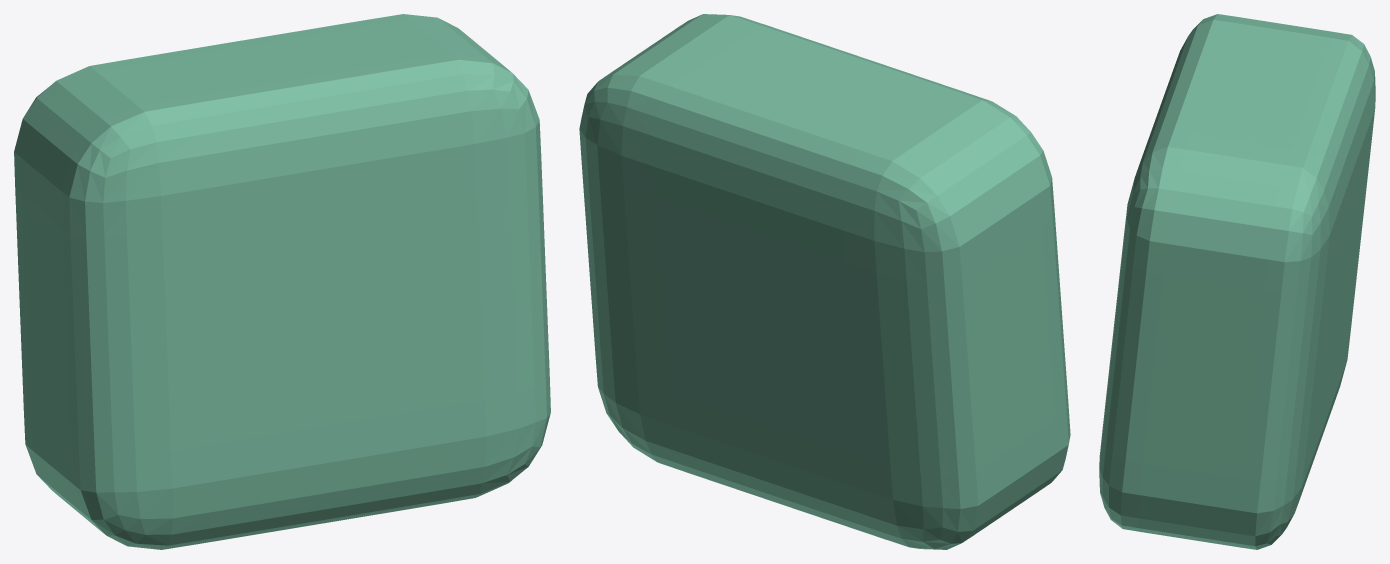
File: green-cushion.glb
The picture shows the model from 3 angles, left to right: view 1: azimuth 30°, elevation 25°; view 2: azimuth 150°, elevation 25°; view 3: azimuth 270°, elevation 25°; orthographic projection. The views are drawn at different scales.
Parts seen in each view (by area): view 1: cushion; view 2: cushion; view 3: cushion.
Part boxes in pixels (x1=…): cushion: x1=14, y1=14, x2=550, y2=549; cushion: x1=579, y1=14, x2=1070, y2=549; cushion: x1=1099, y1=14, x2=1375, y2=549.
Size of the model in its own units: 0.5308 by 0.4825 by 0.3089.
